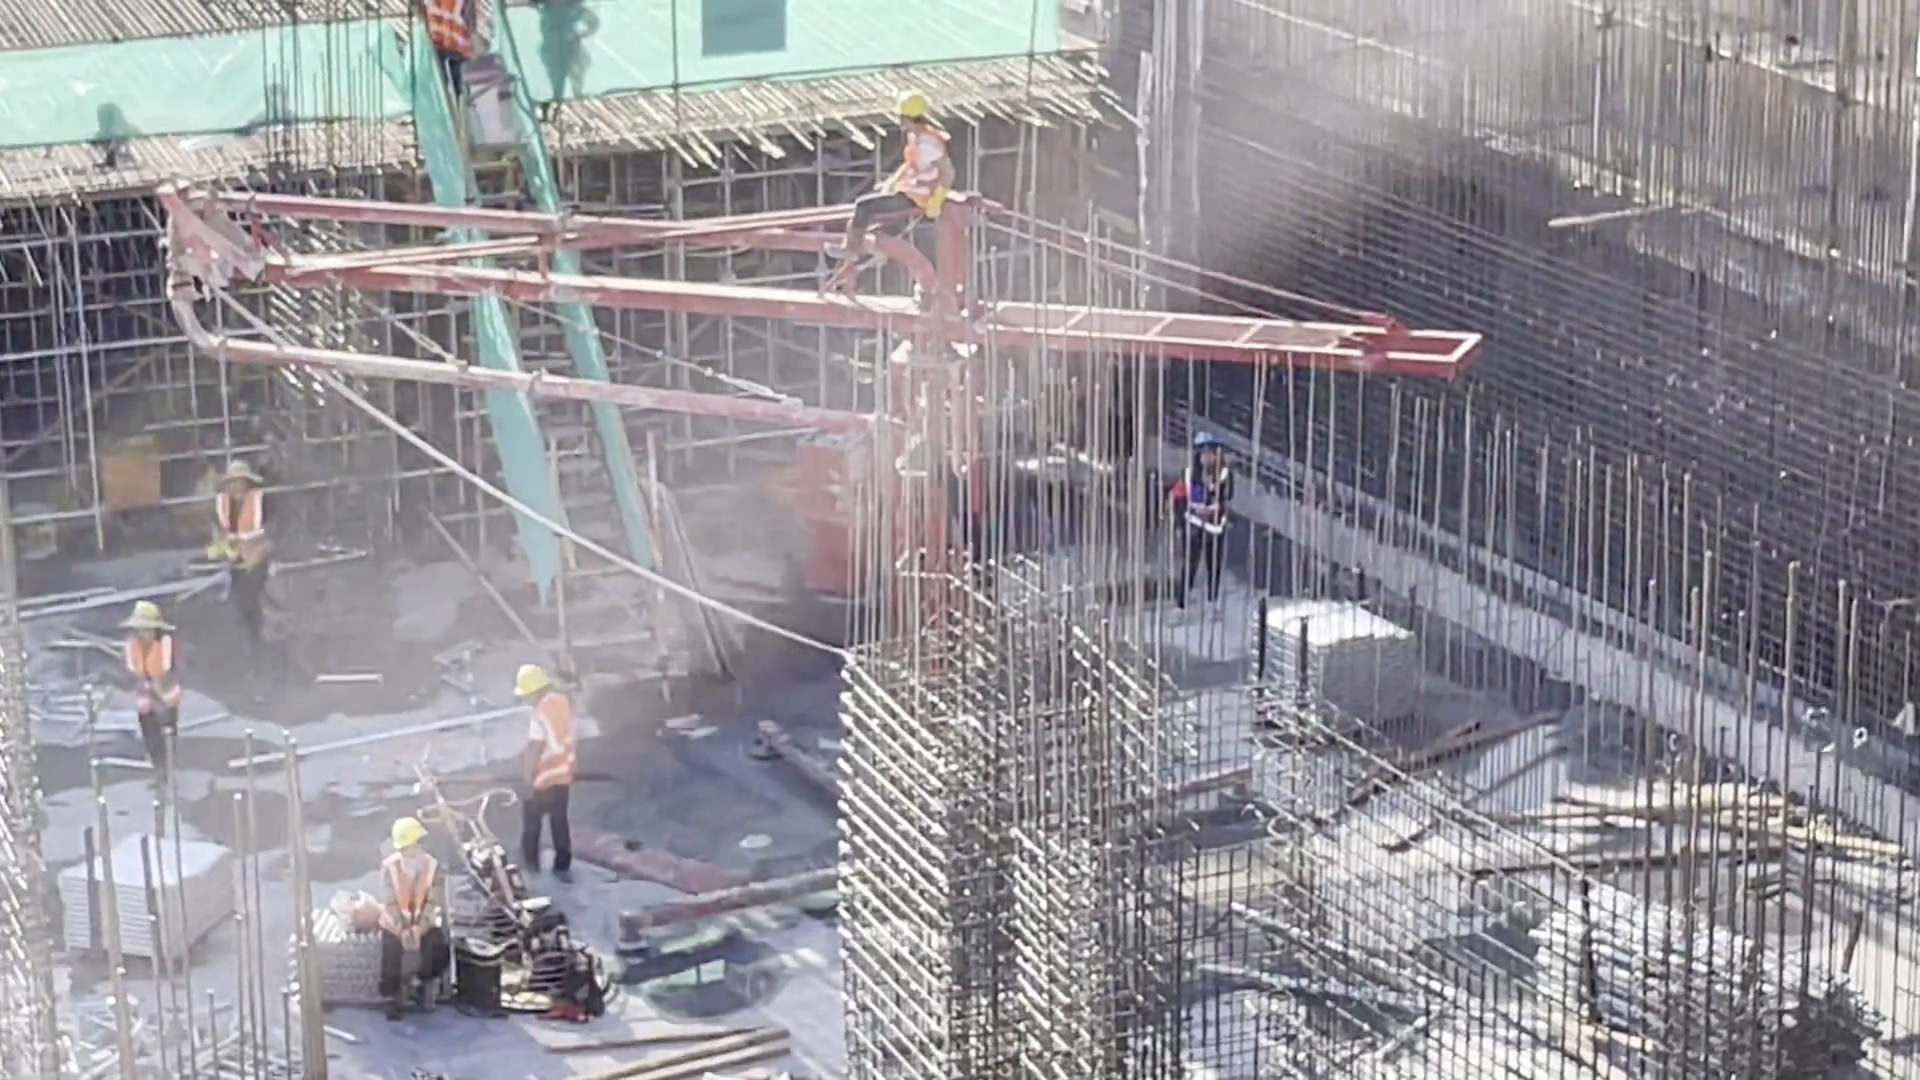helmet: (219, 458, 262, 488), (393, 815, 428, 852), (117, 599, 162, 627), (893, 94, 928, 126), (515, 664, 554, 690), (1190, 430, 1223, 450)
person: (823, 93, 963, 267), (503, 660, 585, 891), (108, 594, 191, 816), (200, 453, 285, 661), (380, 819, 455, 1029), (1162, 430, 1246, 611), (419, 1, 475, 104)
vest: (117, 638, 186, 710), (525, 703, 578, 780), (390, 864, 443, 931), (420, 6, 473, 57), (894, 140, 936, 196), (1184, 475, 1227, 531)
